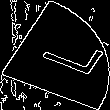L_NW: (15, 29, 95, 81)
